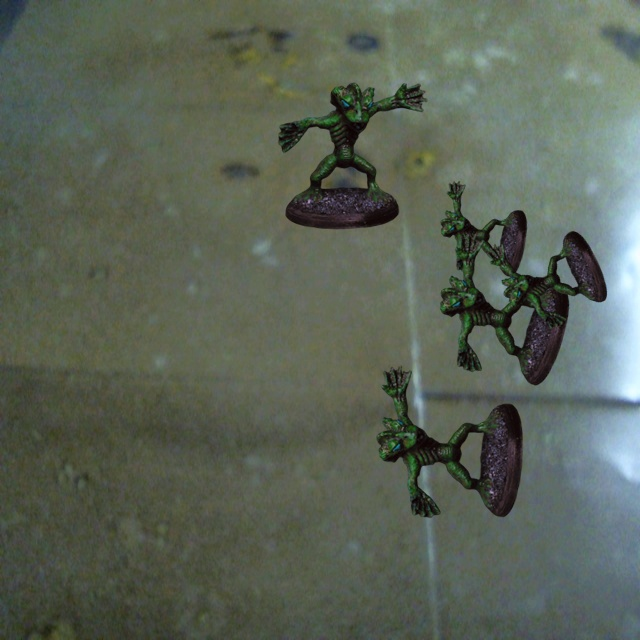pieza_juego: (376, 365, 522, 517), (278, 83, 427, 229), (440, 233, 568, 385), (486, 231, 606, 328), (440, 181, 526, 276)
